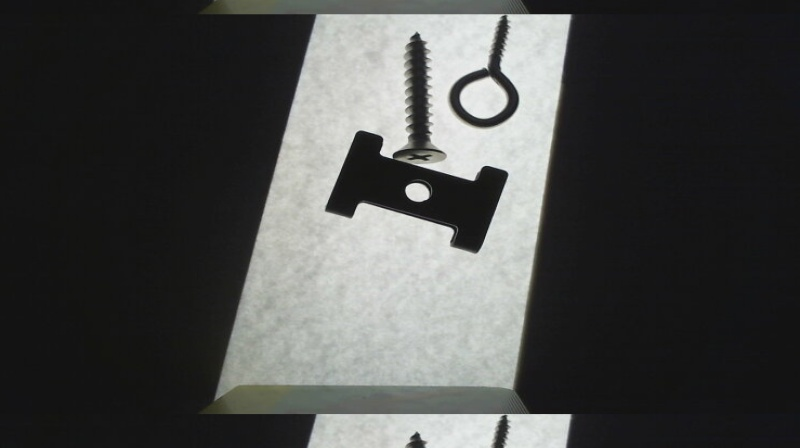O001: (445, 15, 524, 127)
O002: (322, 129, 511, 257)
S001: (388, 30, 448, 166)
